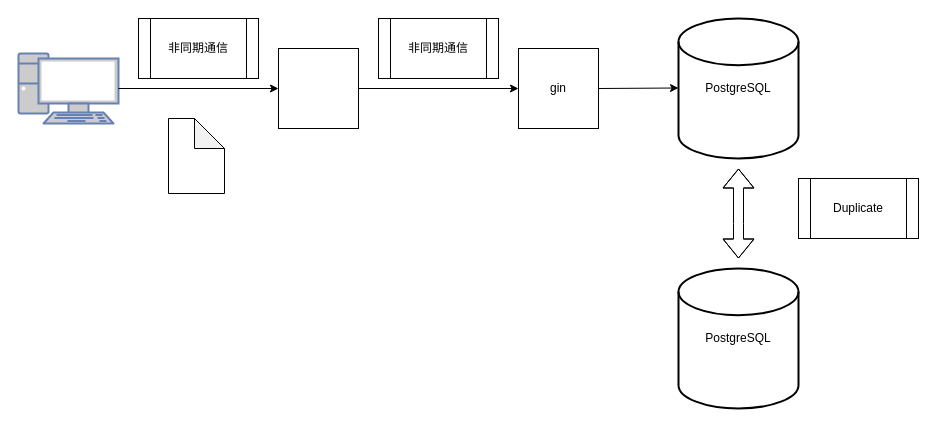
Some shapes in this 936 by 426 pixel diagram are drawn without their labels. The shapes that lost their labels are listed below. From the top down, each one's centre as x and y in pixels, then its label:
[318,88]: nextjs
[196,156]: CSV 6Gb
